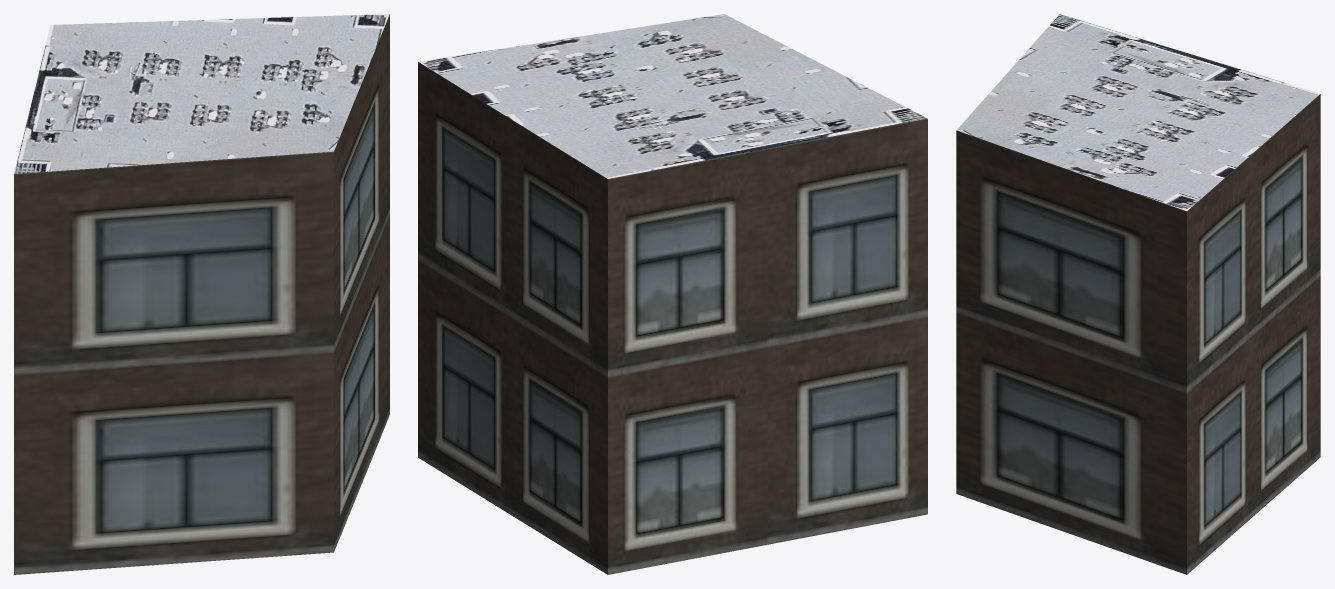
The model's file is ResTex__2335.fbx.
3 renders of one model, left to right at view 1: azimuth 30°, elevation 25°; view 2: azimuth 150°, elevation 25°; view 3: azimuth 270°, elevation 25°, orthographic. The views are drawn at different scales.
Visible parts, largest first — view 1: CityEngineMaterial_16_m, CityEngineMaterial_15_m; view 2: CityEngineMaterial_16_m, CityEngineMaterial_15_m; view 3: CityEngineMaterial_16_m, CityEngineMaterial_15_m.
Boxes of the visible parts, x1=… form: CityEngineMaterial_16_m: x1=14, y1=14, x2=389, y2=574; CityEngineMaterial_15_m: x1=14, y1=14, x2=389, y2=173; CityEngineMaterial_16_m: x1=418, y1=62, x2=927, y2=574; CityEngineMaterial_15_m: x1=418, y1=14, x2=927, y2=178; CityEngineMaterial_16_m: x1=956, y1=94, x2=1320, y2=574; CityEngineMaterial_15_m: x1=956, y1=14, x2=1320, y2=211.
Size of the model in its own units: 6.99 by 6 by 5.45.
Materials: 2 (2 with a texture image).
